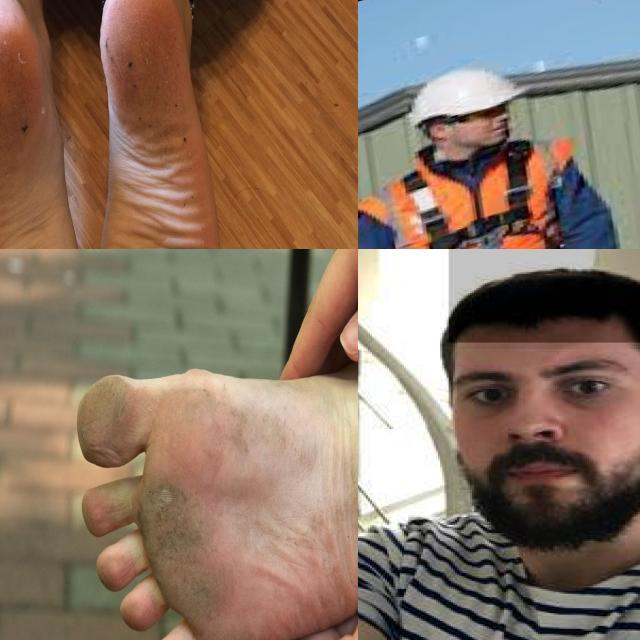Barefoots: (76, 368, 358, 640), (93, 0, 223, 249), (0, 0, 98, 249)
Harness: (400, 138, 544, 249)
No_Glasses: (430, 344, 640, 422)
face_nomask: (451, 349, 640, 549)
head_nohelmet: (449, 249, 640, 342)
person: (358, 249, 640, 640)
